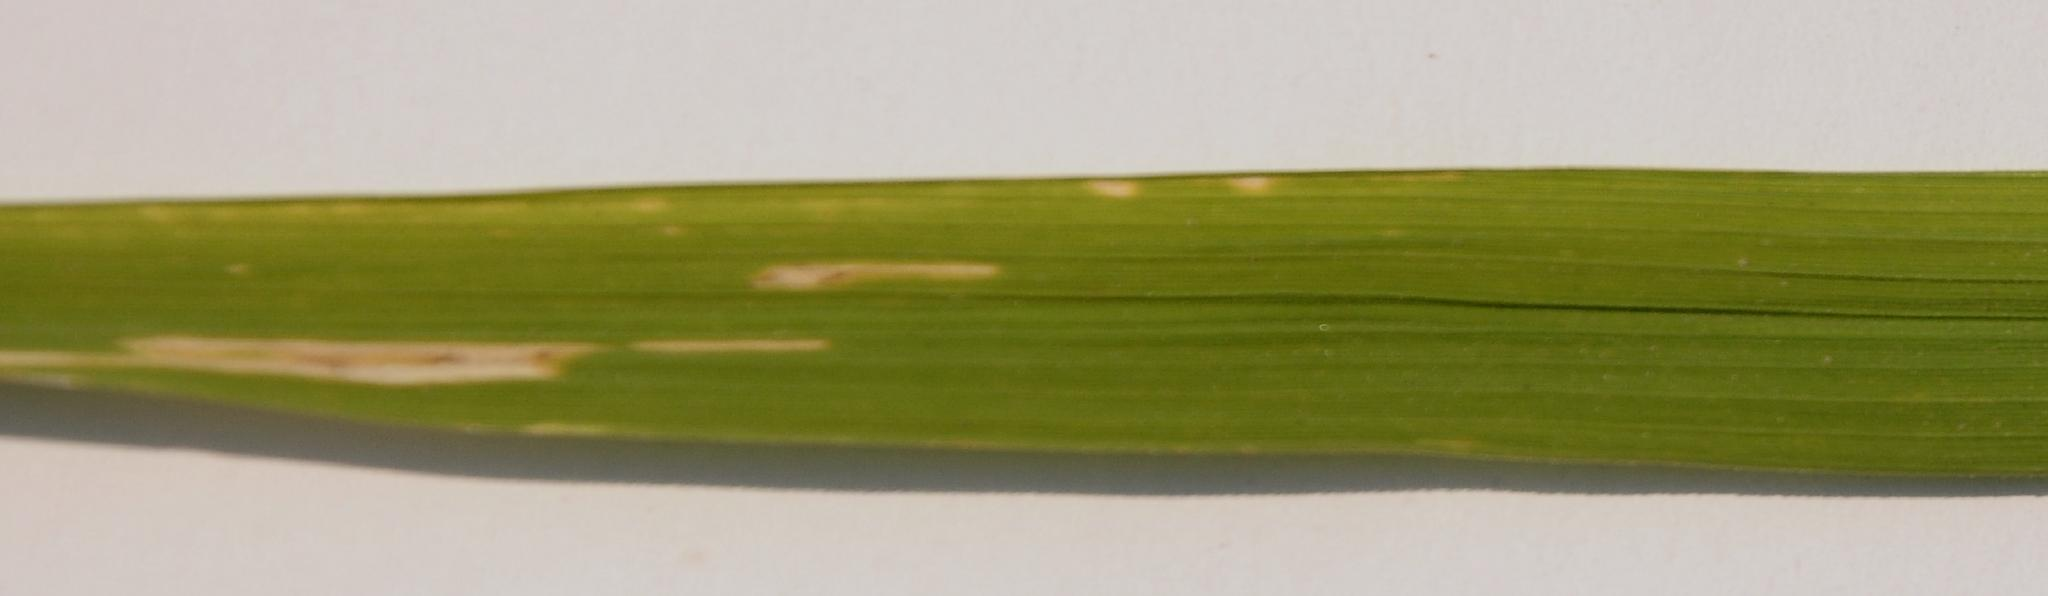2 BacterialBlight: (59, 145, 1473, 286), (10, 297, 880, 440)
